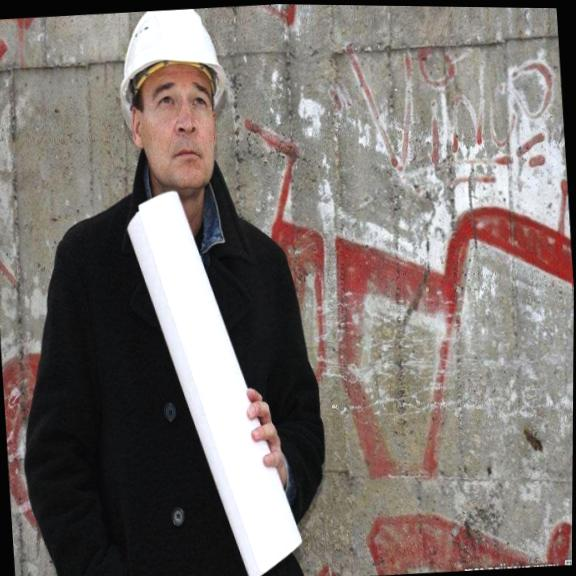no_safety_vest: (2, 160, 345, 576)
